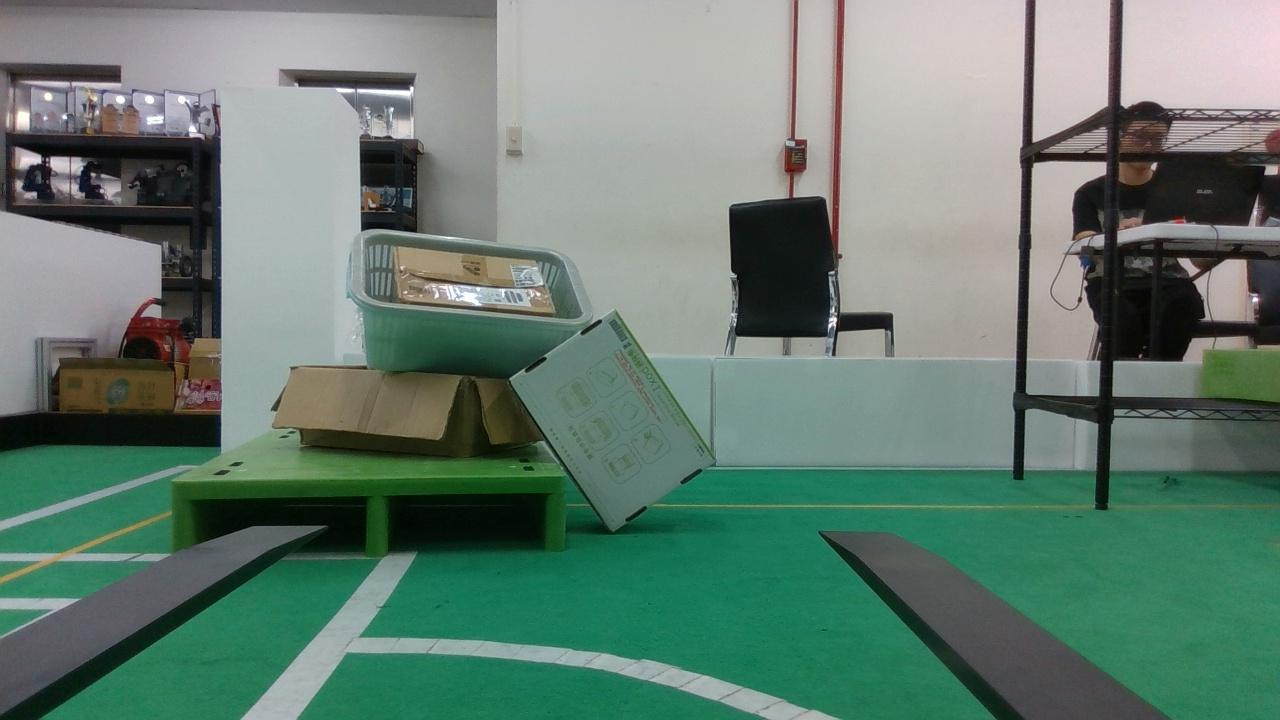Pallet: (169, 477, 568, 557)
